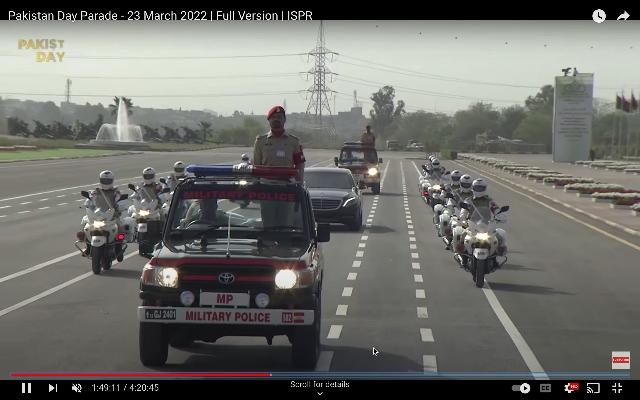plate: (142, 306, 178, 324)
